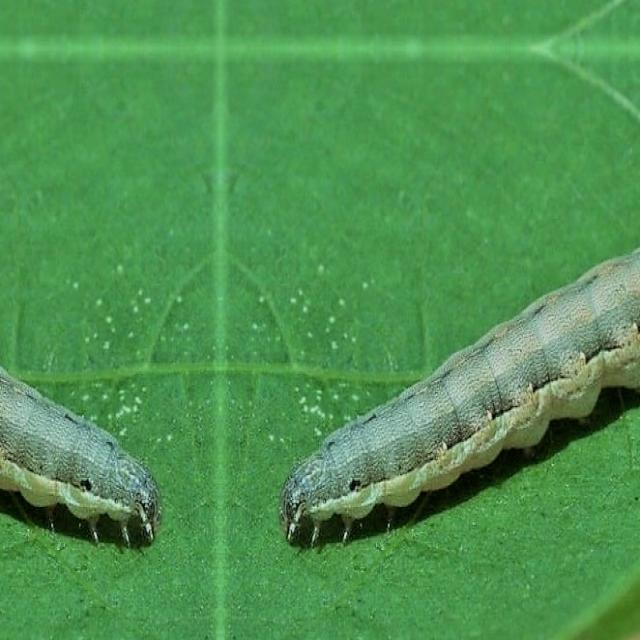armyworm: (277, 244, 639, 550), (0, 363, 161, 548)
